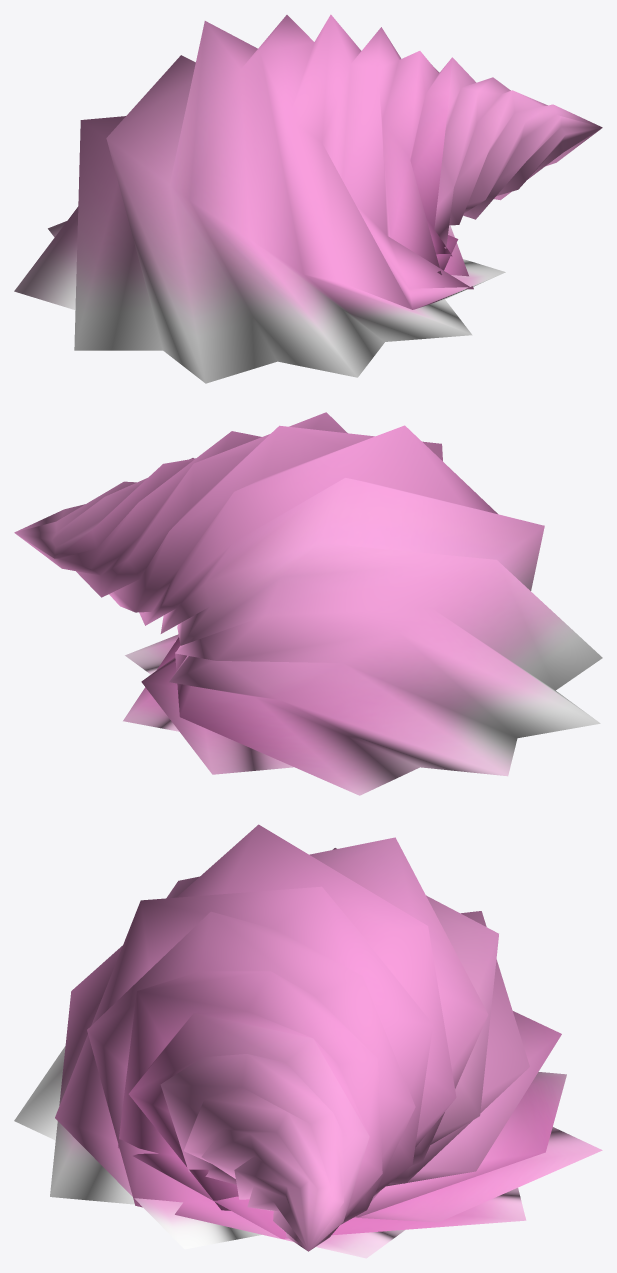
The model's file is Coquillage01.fbx.
3 renders of one model, top to bottom at view 1: azimuth 30°, elevation 25°; view 2: azimuth 150°, elevation 25°; view 3: azimuth 270°, elevation 25°, orthographic. The views are drawn at different scales.
Visible parts, largest first — view 1: pCone1; view 2: pCone1; view 3: pCone1.
Boxes of the visible parts, left/top/right/bottom form: pCone1: left=14, top=14, right=602, bottom=383; pCone1: left=14, top=412, right=602, bottom=795; pCone1: left=14, top=824, right=602, bottom=1258.
Bounding box in the file's own units: 0.4715 × 0.2033 × 0.3626.
